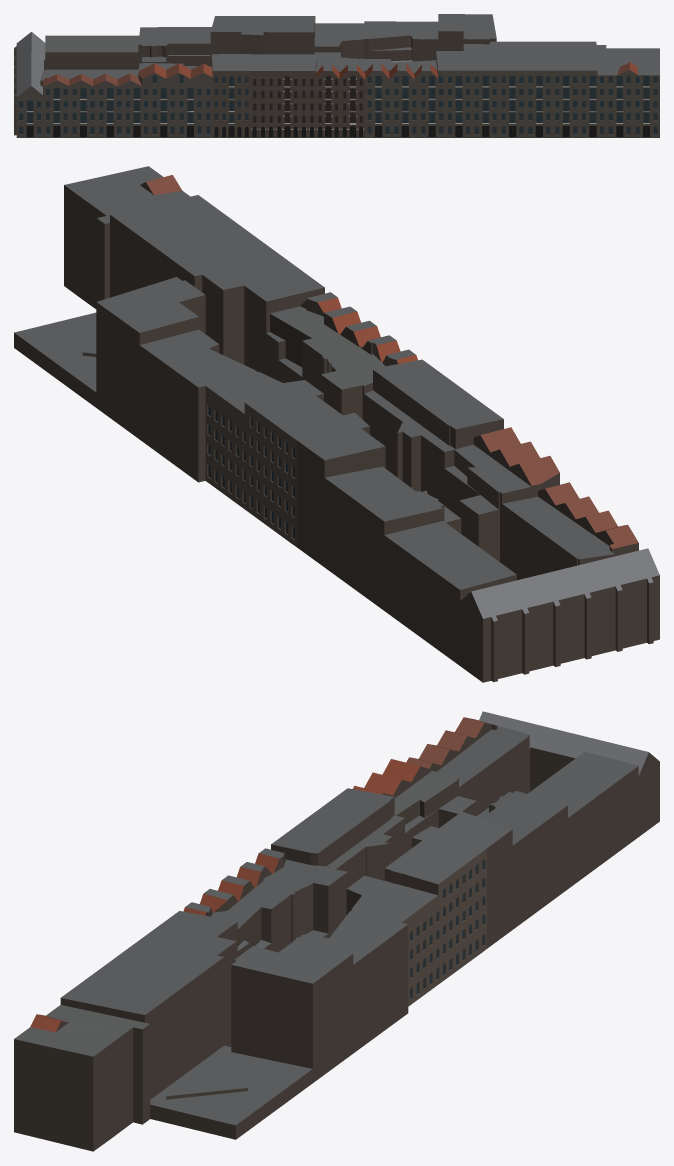
File: recipe-large-entrepotdok-164981.glb
3 renders of one model, top to bottom at view 1: azimuth 30°, elevation 25°; view 2: azimuth 150°, elevation 25°; view 3: azimuth 270°, elevation 25°, orthographic. The views are drawn at different scales.
Visible parts, largest first — view 1: entrepotdok-164981; view 2: entrepotdok-164981; view 3: entrepotdok-164981.
Part boxes in pixels (x1,y1,x2,y2): entrepotdok-164981: [14, 14, 659, 137]; entrepotdok-164981: [14, 166, 659, 682]; entrepotdok-164981: [14, 711, 659, 1151].
Bounding box in the file's own units: 143 × 18.58 × 105.
